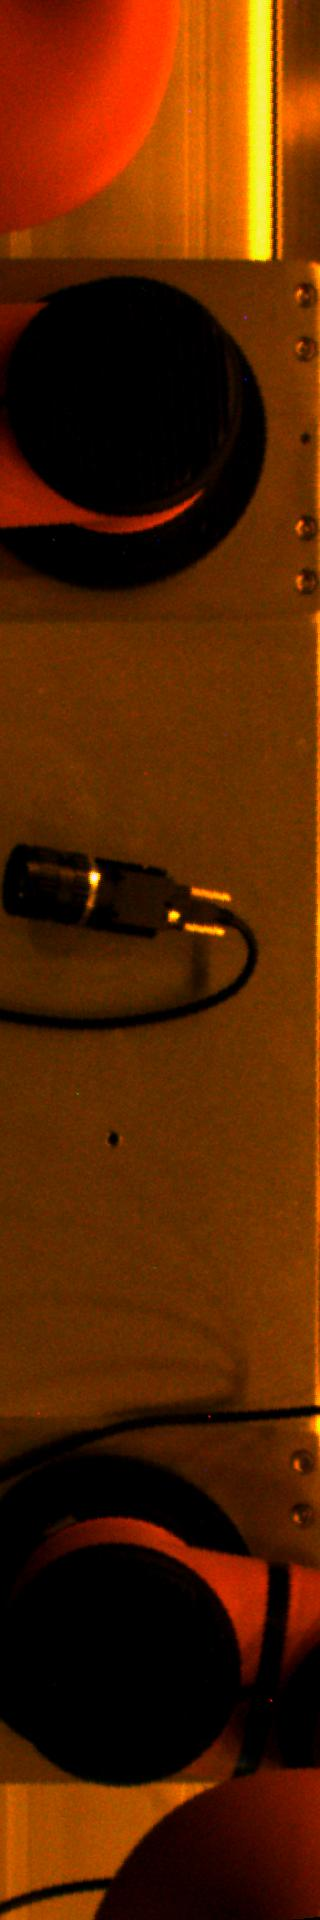keyPoint_2: (97, 1123, 128, 1153)
